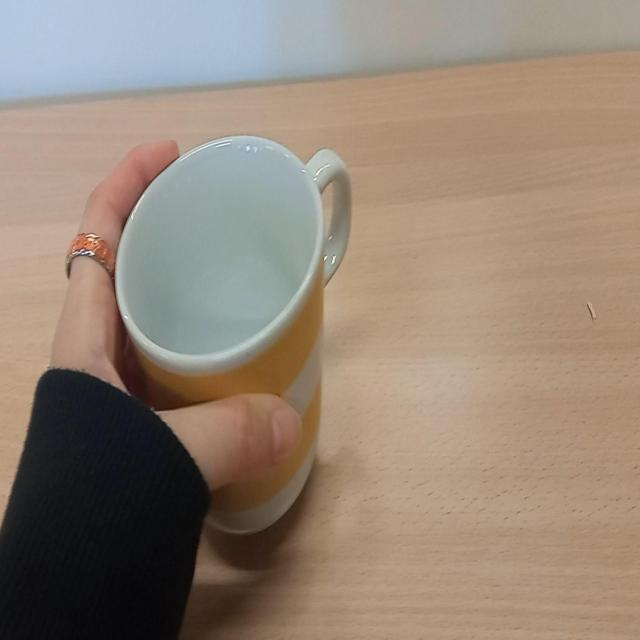cup: (116, 128, 350, 540)
